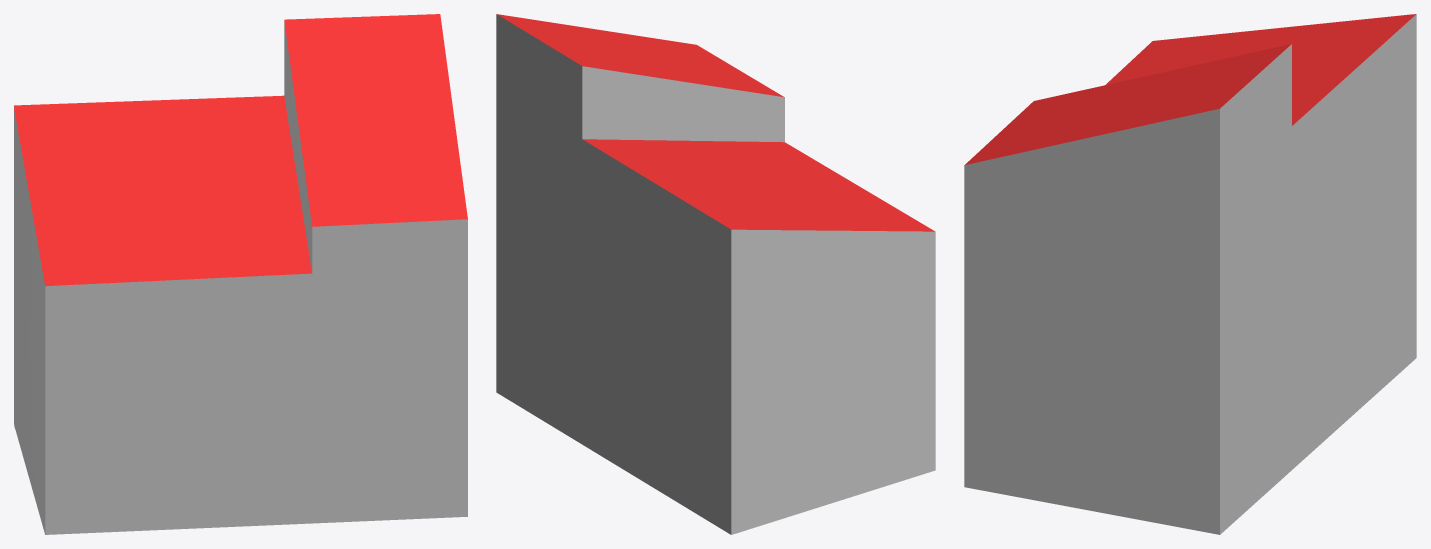
The model's file is DEBY_LOD2_4907143.dae.
The picture shows the model from 3 angles, left to right: view 1: azimuth 30°, elevation 25°; view 2: azimuth 150°, elevation 25°; view 3: azimuth 270°, elevation 25°; orthographic projection. The views are drawn at different scales.
Bounding box in the file's own units: 14.78 × 12.56 × 13.06.
